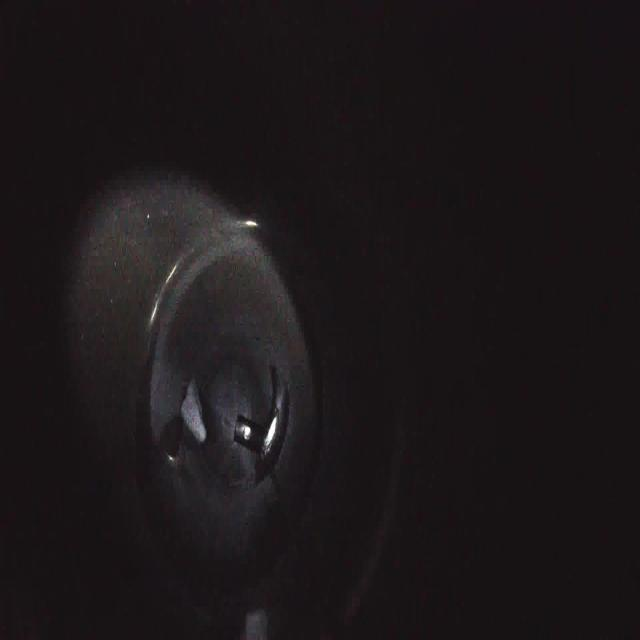impurity: (175, 372, 214, 450)
